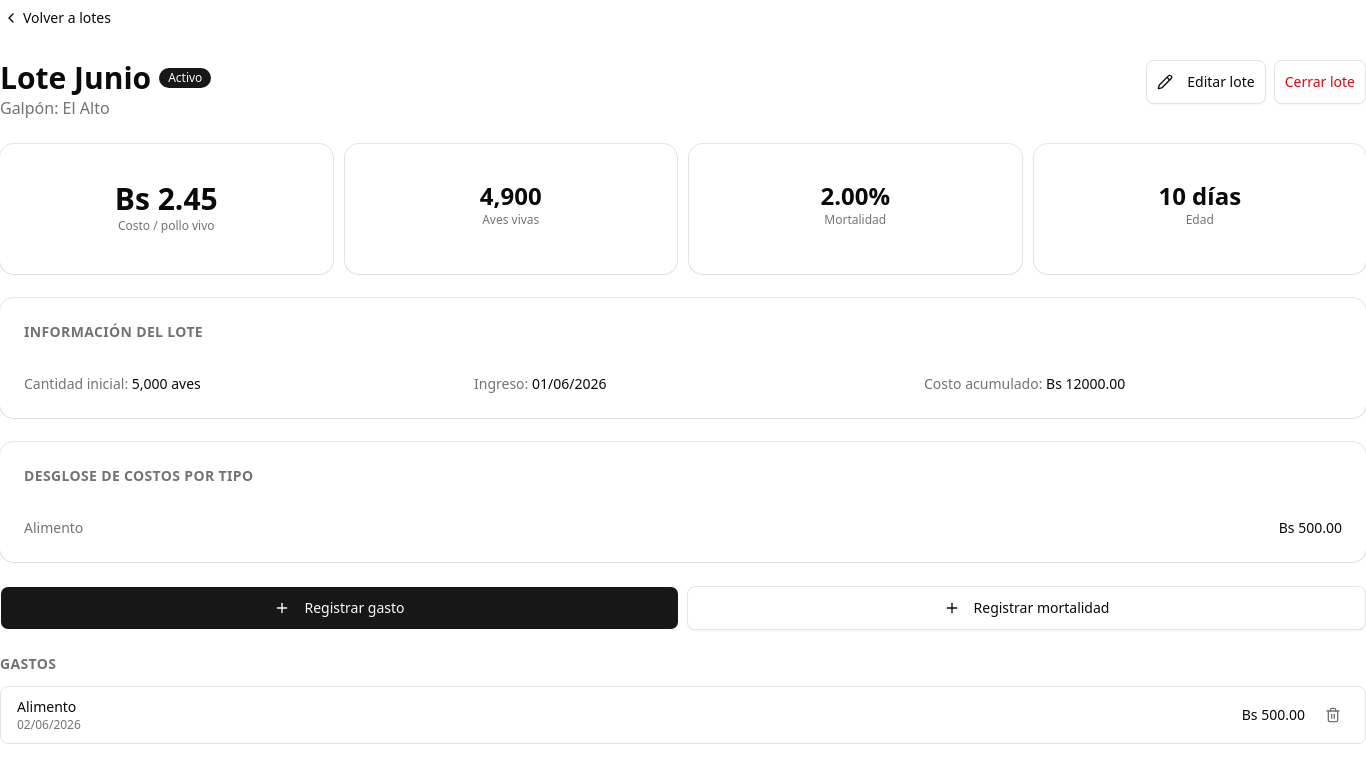
Scenario: LoteDetailPage — registro directo (sin pestañas) › el botón "Registrar gasto" abre el formulario de gasto
Click the button "Registrar gasto": {"x": 340, "y": 608} left=0, top=586, right=679, bottom=630
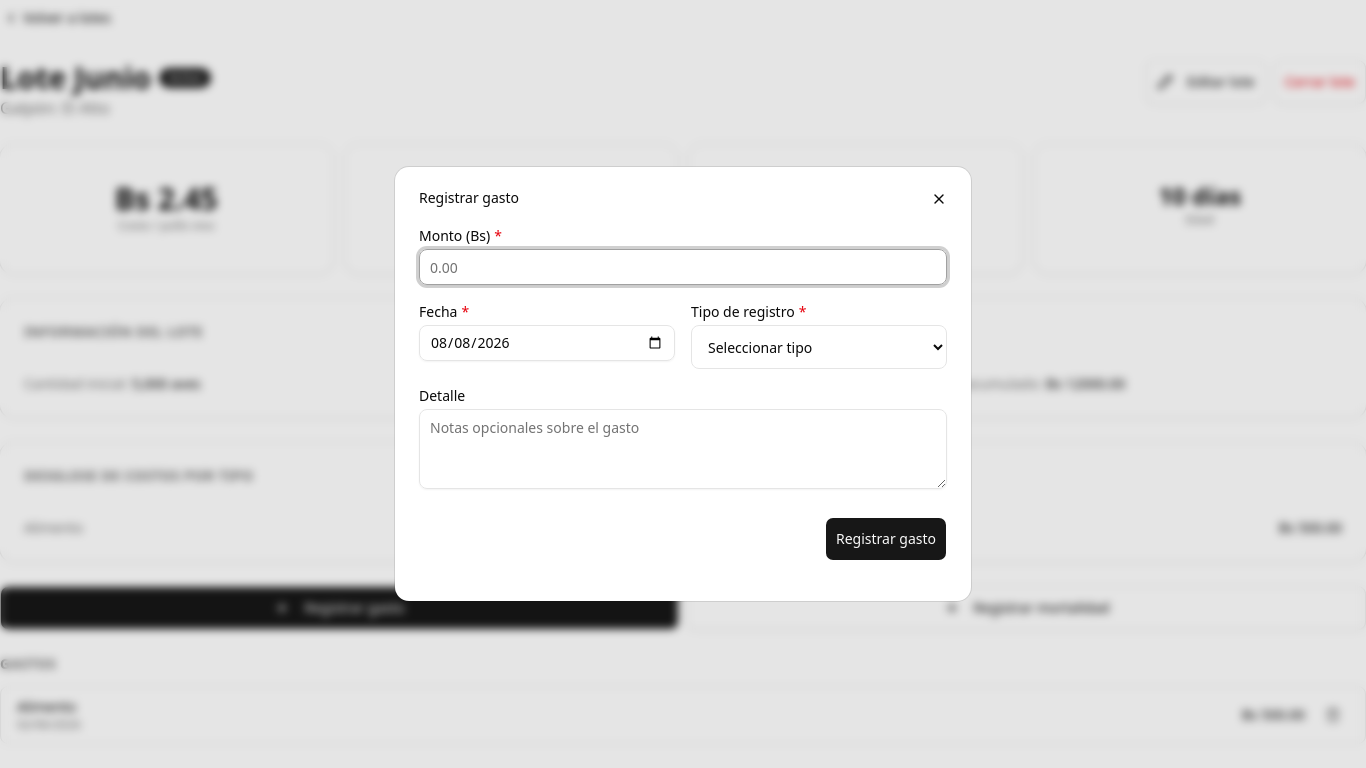
expect the field labelled "Monto (Bs) *" is shown: met, box left=419, top=249, right=947, bottom=285
